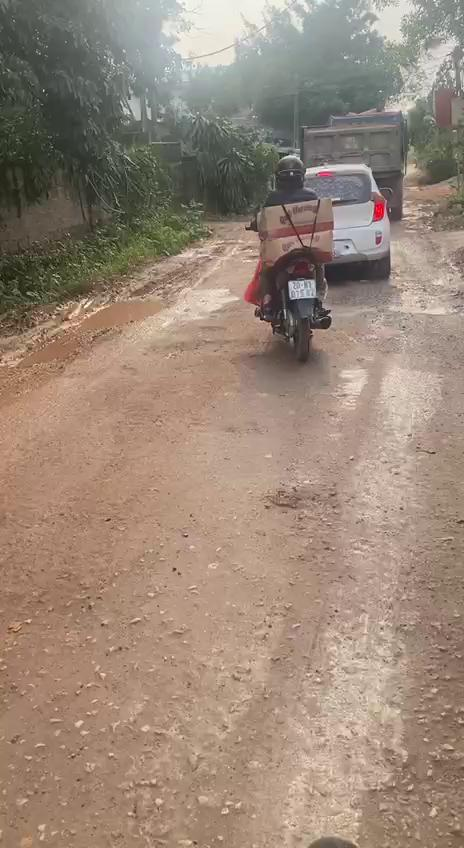pothole: (12, 291, 173, 374)
